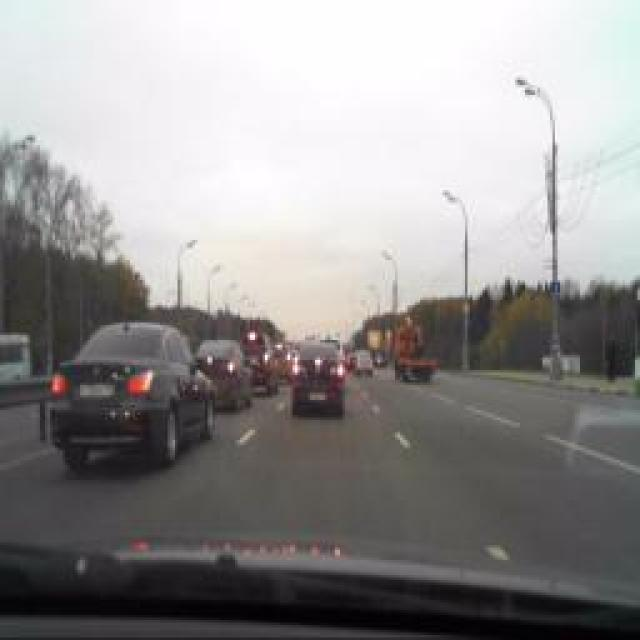sign: (550, 281, 562, 304)
